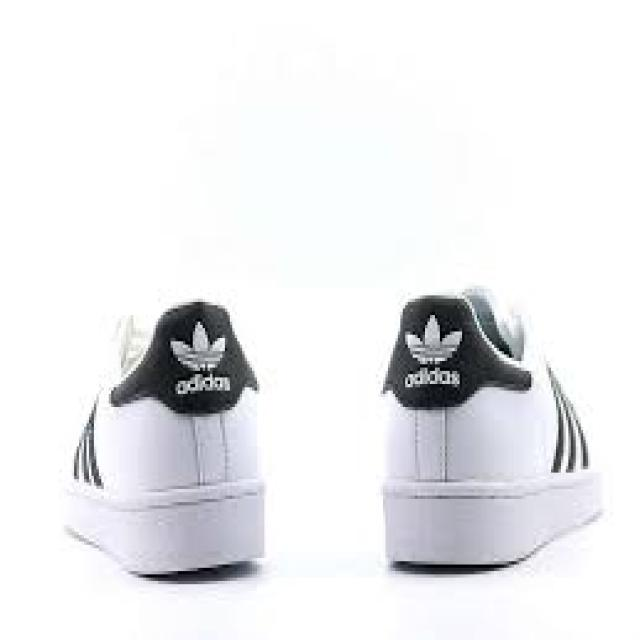shoe: (376, 287, 612, 575), (57, 300, 271, 571)
